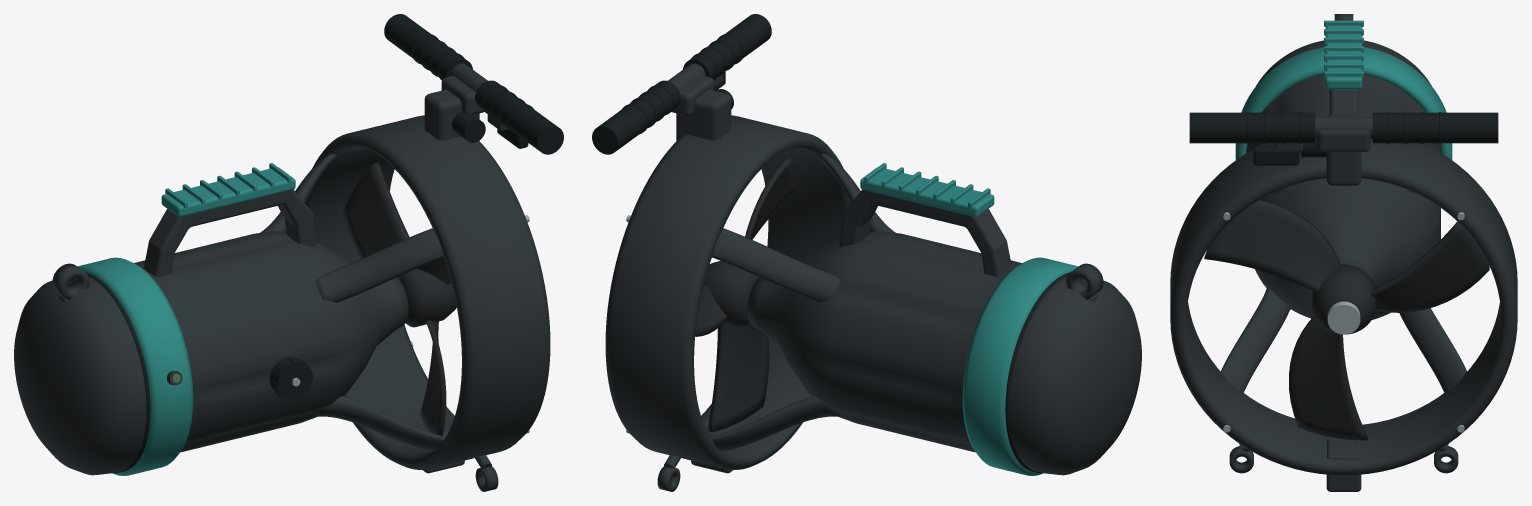
3 renders of one model, left to right at view 1: azimuth 30°, elevation 25°; view 2: azimuth 150°, elevation 25°; view 3: azimuth 270°, elevation 25°, orthographic.
Visible parts, largest first — view 1: Broad complete propeller shroud, Axially recessed closed main body, Squat rounded closed nose, Wide circumferential closure collar, Open molded carry arch, Curved shroud support 1, Original static swept vane 1, Rear hand grip -1, Raised top accessory rail, Curved shroud support 2, Rear hand grip 1, Static central rotor hub (+8 smaller); view 2: Broad complete propeller shroud, Axially recessed closed main body, Squat rounded closed nose, Wide circumferential closure collar, Original static swept vane 3, Open molded carry arch, Curved shroud support 0, Rear hand grip 1, Raised top accessory rail, Curved shroud support 3, Rear hand grip -1, Static central rotor hub (+7 smaller); view 3: Broad complete propeller shroud, Axially recessed closed main body, Original static swept vane 2, Original static swept vane 3, Original static swept vane 1, Wide circumferential closure collar, Rear hand grip 1, Rear hand grip -1, Curved shroud support 2, Curved shroud support 3, Static central rotor hub, Raised top accessory rail (+10 smaller).
Boxes of the visible parts, left/top/right/bottom form: Broad complete propeller shroud: left=305, top=115, right=550, bottom=469; Axially recessed closed main body: left=134, top=231, right=408, bottom=452; Squat rounded closed nose: left=14, top=277, right=146, bottom=475; Wide circumferential closure collar: left=77, top=257, right=193, bottom=475; Open molded carry arch: left=144, top=189, right=316, bottom=276; Curved shroud support 1: left=315, top=228, right=443, bottom=302; Original static swept vane 1: left=342, top=162, right=409, bottom=258; Rear hand grip -1: left=475, top=80, right=563, bottom=154; Raised top accessory rail: left=161, top=167, right=295, bottom=217; Curved shroud support 2: left=315, top=396, right=445, bottom=451; Rear hand grip 1: left=384, top=14, right=472, bottom=79; Static central rotor hub: left=397, top=268, right=456, bottom=327; Broad complete propeller shroud: left=605, top=115, right=850, bottom=469; Axially recessed closed main body: left=747, top=231, right=1021, bottom=452; Squat rounded closed nose: left=1009, top=277, right=1141, bottom=475; Wide circumferential closure collar: left=962, top=257, right=1078, bottom=475; Original static swept vane 3: left=707, top=323, right=769, bottom=432; Open molded carry arch: left=839, top=189, right=1011, bottom=276; Curved shroud support 0: left=712, top=228, right=840, bottom=302; Rear hand grip 1: left=592, top=80, right=680, bottom=154; Raised top accessory rail: left=860, top=167, right=994, bottom=217; Curved shroud support 3: left=710, top=396, right=840, bottom=451; Rear hand grip -1: left=683, top=14, right=771, bottom=79; Static central rotor hub: left=704, top=261, right=758, bottom=327; Broad complete propeller shroud: left=1170, top=139, right=1517, bottom=475; Axially recessed closed main body: left=1246, top=74, right=1441, bottom=320; Original static swept vane 2: left=1204, top=199, right=1340, bottom=293; Original static swept vane 3: left=1289, top=316, right=1367, bottom=440; Original static swept vane 1: left=1370, top=221, right=1489, bottom=312; Wide circumferential closure collar: left=1235, top=47, right=1452, bottom=159; Rear hand grip 1: left=1372, top=112, right=1498, bottom=143; Rear hand grip -1: left=1189, top=112, right=1315, bottom=143; Curved shroud support 2: left=1221, top=288, right=1290, bottom=392; Curved shroud support 3: left=1399, top=308, right=1466, bottom=392; Static central rotor hub: left=1312, top=264, right=1375, bottom=334; Raised top accessory rail: left=1325, top=25, right=1362, bottom=89.
Bounding box in the file's own units: 0.5108 × 0.4188 × 0.34.
